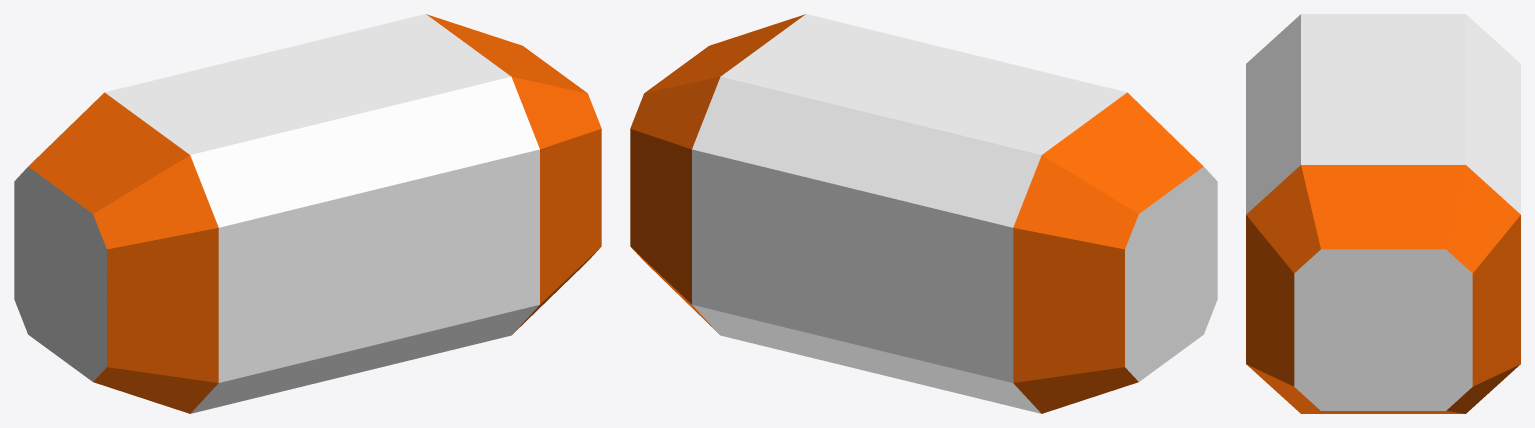
File: flaot.fbx
3 views of the same model, side by side, from view 1: azimuth 30°, elevation 25°; view 2: azimuth 150°, elevation 25°; view 3: azimuth 270°, elevation 25° (orthographic). The views are drawn at different scales.
Parts seen in each view (by area): view 1: Cube; view 2: Cube; view 3: Cube.
Boxes of the visible parts, x1,y1,x2,y2 form: Cube: (14,14,601,413); Cube: (630,14,1217,413); Cube: (1246,14,1520,413).
Size of the model in its own units: 400 by 200 by 200.
